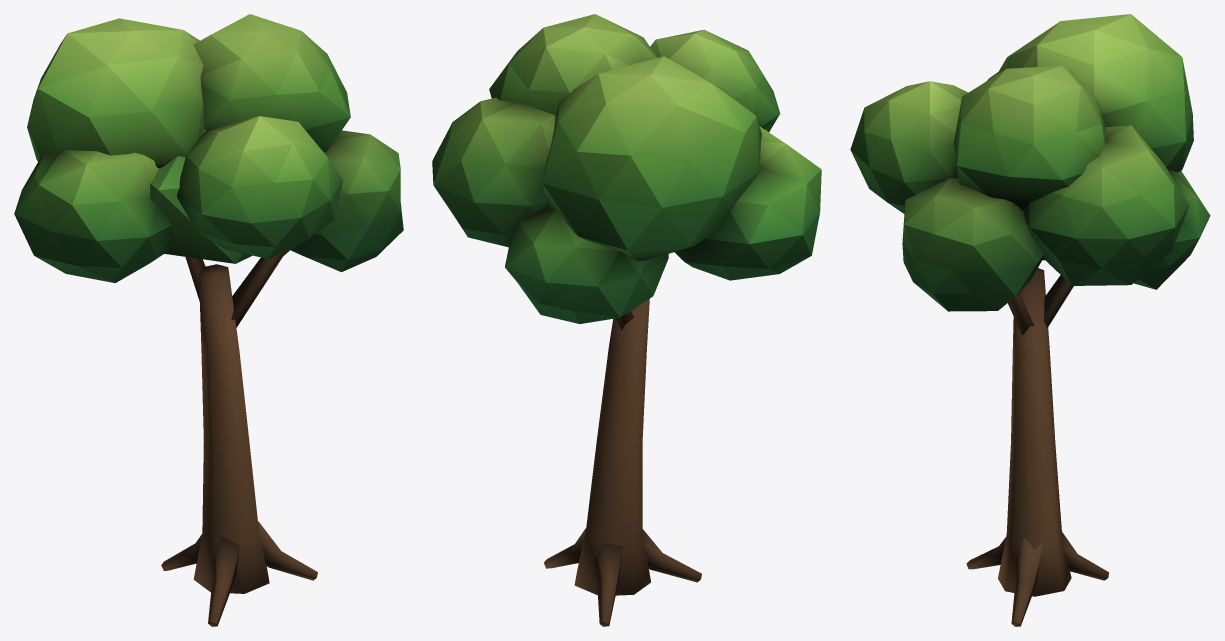
File: tree-young.glb
3 renders of one model, left to right at view 1: azimuth 30°, elevation 25°; view 2: azimuth 150°, elevation 25°; view 3: azimuth 270°, elevation 25°, orthographic. The views are drawn at different scales.
Visible parts, largest first — view 1: 1_leaves.014, 0_trunk.014; view 2: 1_leaves.014, 0_trunk.014; view 3: 1_leaves.014, 0_trunk.014.
Boxes of the visible parts, <box> form: 1_leaves.014: <box>14,14,403,283</box>; 0_trunk.014: <box>161,249,317,626</box>; 1_leaves.014: <box>432,14,821,323</box>; 0_trunk.014: <box>544,298,701,626</box>; 1_leaves.014: <box>850,14,1210,311</box>; 0_trunk.014: <box>966,268,1108,626</box>.
Bounding box in the file's own units: 1.98 × 3.1 × 1.9.
